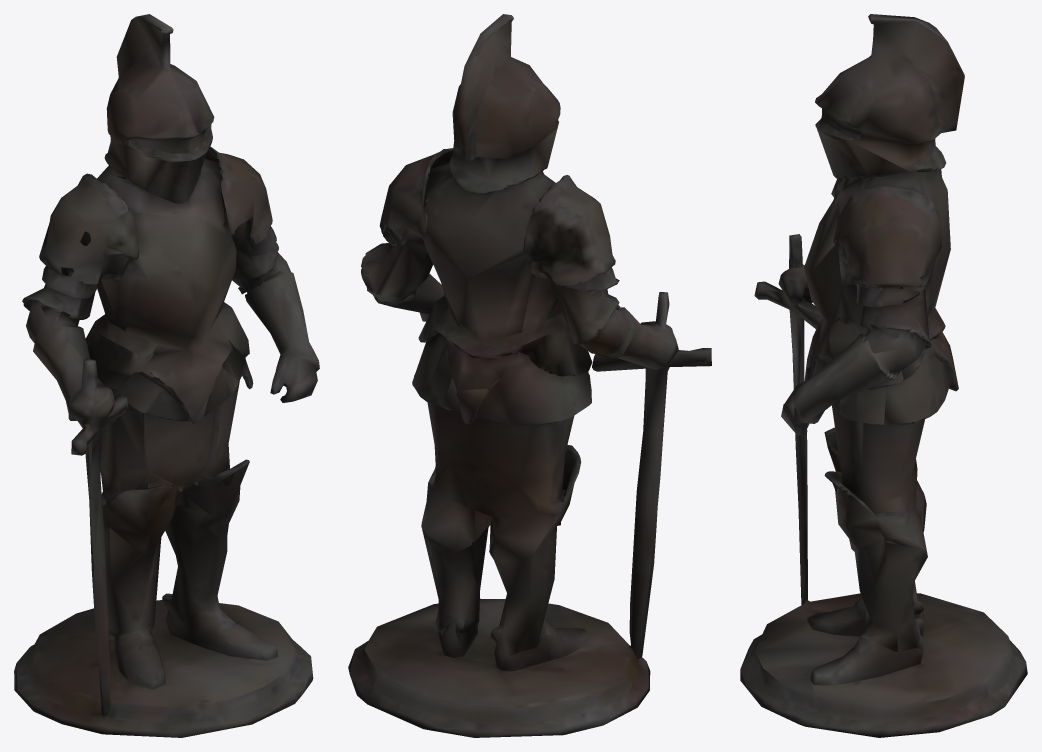
The model's file is plain-iron-suit-of-armour-v002.glb.
3 views of the same model, side by side, from view 1: azimuth 30°, elevation 25°; view 2: azimuth 150°, elevation 25°; view 3: azimuth 270°, elevation 25° (orthographic).
Visible parts, largest first — view 1: plain-iron-suit-of-armour; view 2: plain-iron-suit-of-armour; view 3: plain-iron-suit-of-armour.
Boxes of the visible parts, x1,y1,x2,y2 form: plain-iron-suit-of-armour: (14, 14, 319, 737); plain-iron-suit-of-armour: (348, 14, 711, 737); plain-iron-suit-of-armour: (740, 14, 1027, 737).
Bounding box in the file's own units: 0.8859 × 1.94 × 0.7708.
1 material, 1 textured.
